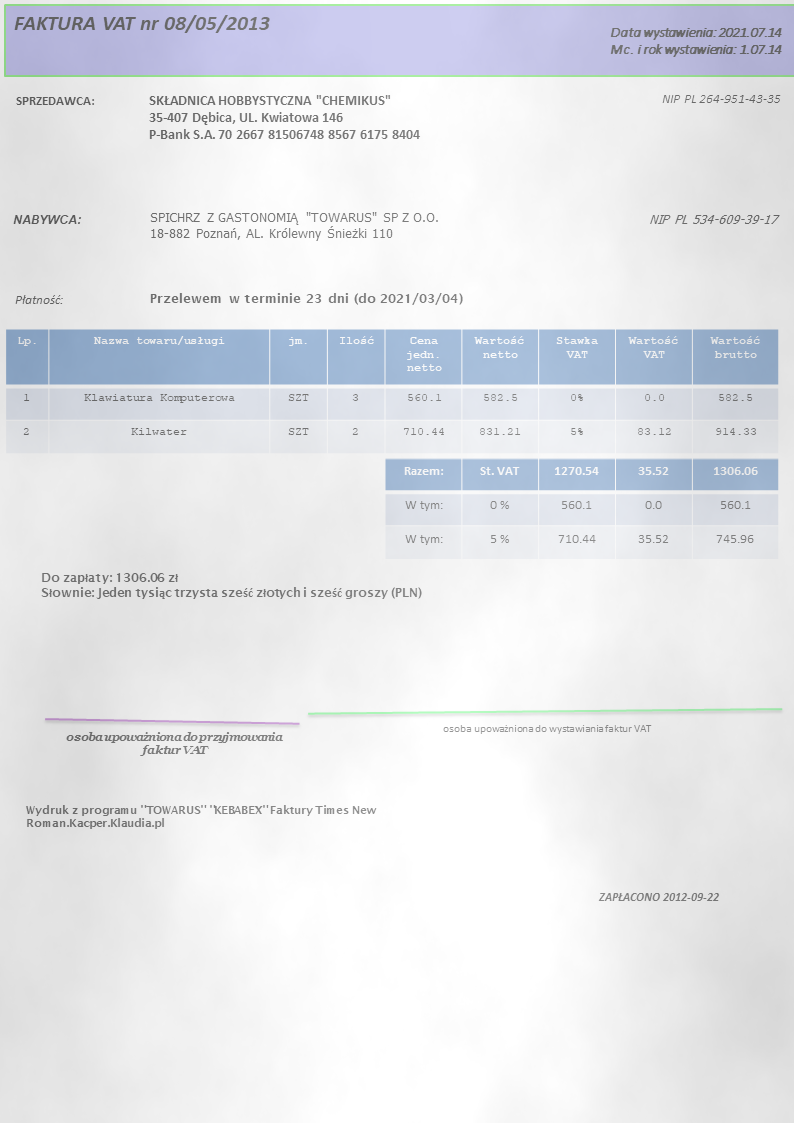Table: (3, 328, 779, 455), (384, 457, 780, 559)
TextBox: (146, 91, 423, 143), (39, 570, 424, 602), (23, 802, 378, 832), (147, 209, 442, 241), (607, 24, 784, 59), (11, 13, 272, 36), (65, 729, 285, 756), (148, 290, 465, 307), (441, 722, 652, 737), (596, 888, 720, 906), (648, 212, 780, 228), (660, 91, 781, 106), (13, 93, 97, 109), (11, 211, 83, 228), (13, 292, 64, 307)
